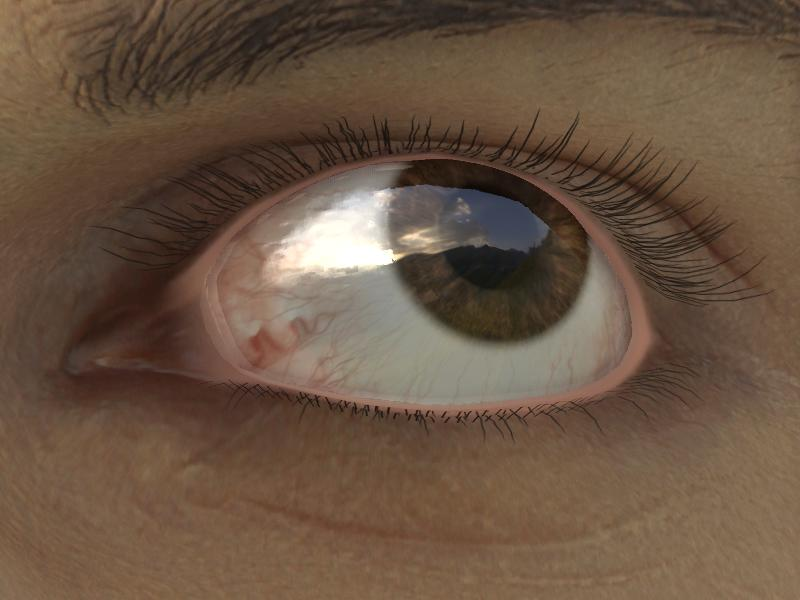eye: (390, 157, 588, 341)
